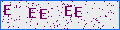E: (74, 7, 83, 18), (29, 8, 36, 19), (65, 6, 72, 16), (40, 9, 47, 19), (4, 5, 11, 15)
